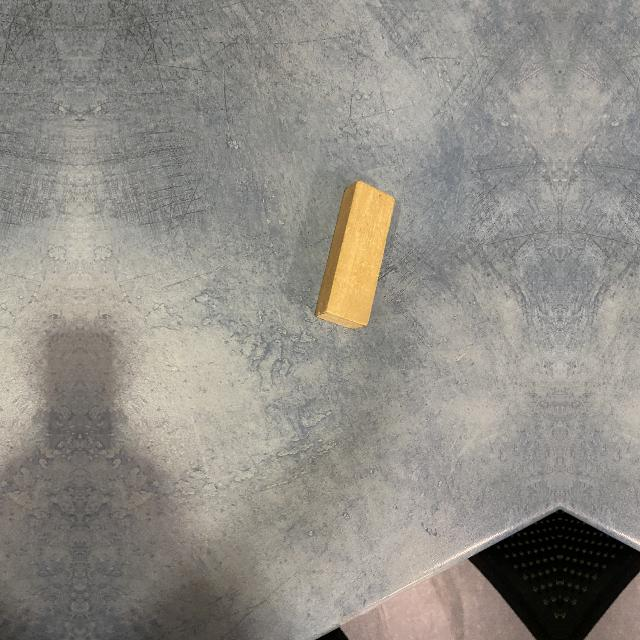jenga: (315, 181, 395, 330)
